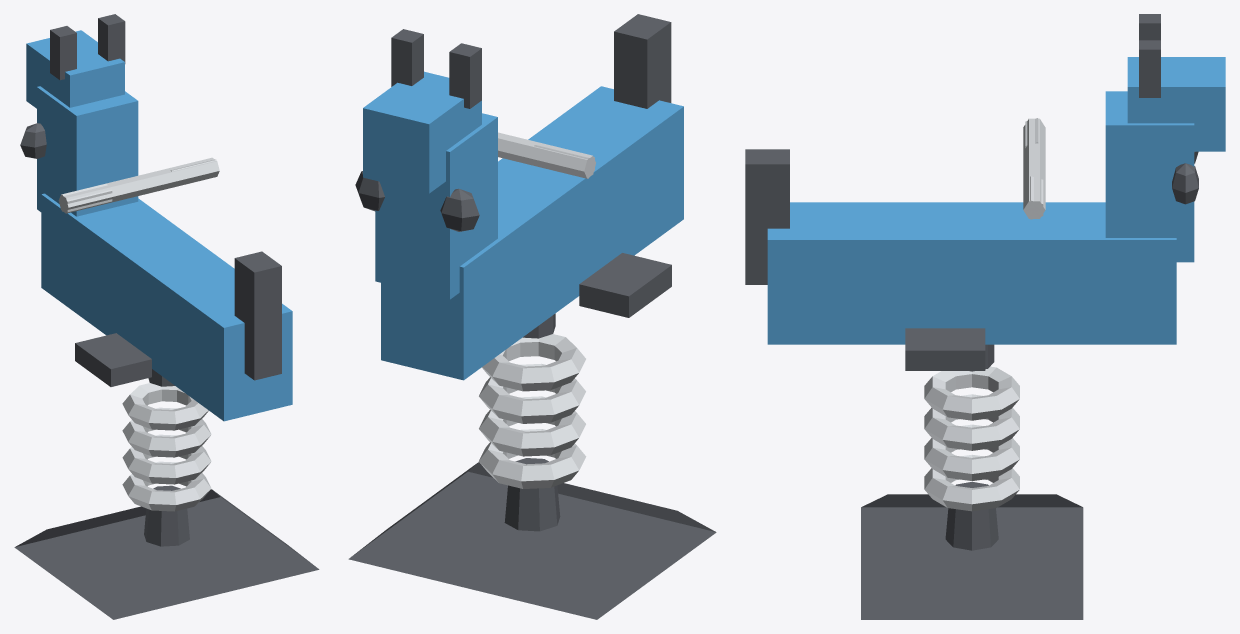
The model's file is 33658-Blue-Horse-Spring-Rocker-City-Park-and-Playground.glb.
The picture shows the model from 3 angles, left to right: view 1: azimuth 30°, elevation 25°; view 2: azimuth 150°, elevation 25°; view 3: azimuth 270°, elevation 25°; orthographic projection. The views are drawn at different scales.
Visible parts, largest first — view 1: rocker/azure, spring-rocker-blue-charcoal, rocker/charcoal, spring-rocker-blue-steel, rocker/steel; view 2: rocker/azure, spring-rocker-blue-charcoal, rocker/charcoal, spring-rocker-blue-steel, rocker/steel; view 3: rocker/azure, spring-rocker-blue-charcoal, spring-rocker-blue-steel, rocker/charcoal, rocker/steel.
Boxes of the visible parts, <box> form: rocker/azure: <box>26,30,292,421</box>; spring-rocker-blue-charcoal: <box>14,485,319,619</box>; rocker/charcoal: <box>20,14,281,386</box>; spring-rocker-blue-steel: <box>122,383,211,511</box>; rocker/steel: <box>58,157,219,213</box>; rocker/azure: <box>363,71,683,380</box>; spring-rocker-blue-charcoal: <box>348,458,716,619</box>; rocker/charcoal: <box>355,14,671,338</box>; spring-rocker-blue-steel: <box>478,334,586,488</box>; rocker/steel: <box>498,132,595,178</box>; rocker/azure: <box>767,57,1225,344</box>; spring-rocker-blue-charcoal: <box>861,481,1083,619</box>; spring-rocker-blue-steel: <box>924,366,1019,511</box>; rocker/charcoal: <box>745,14,1198,371</box>; rocker/steel: <box>1023,118,1045,219</box>.
Size of the model in its own units: 0.6 by 1.32 by 1.08.
